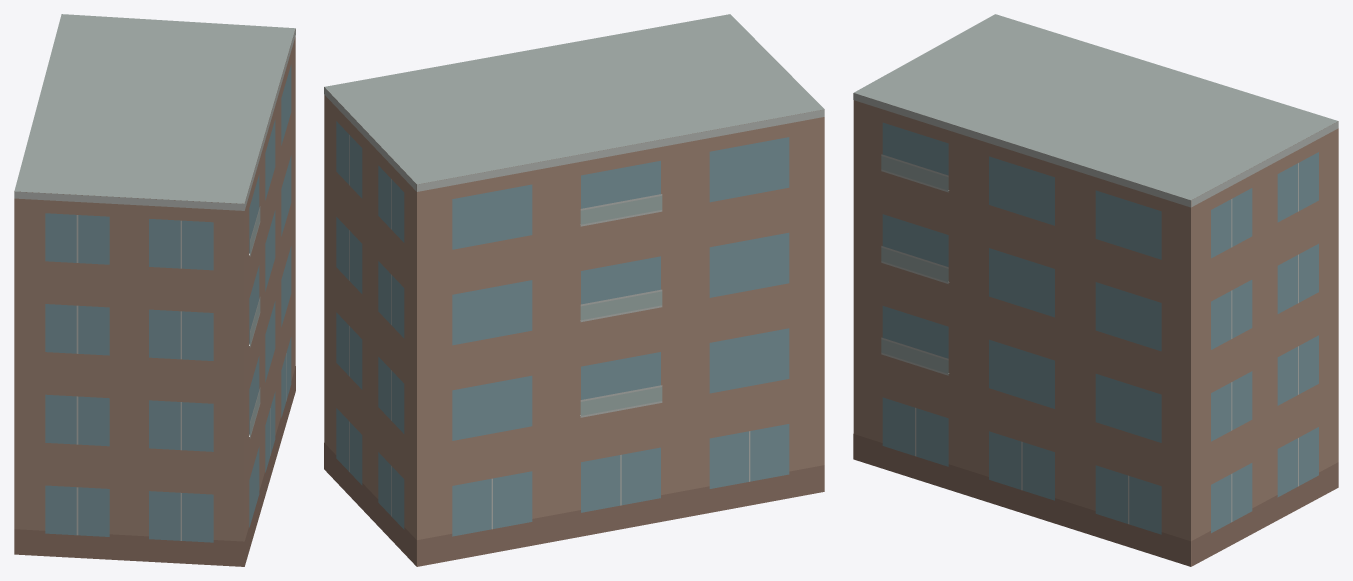
File: survey-upis-32853467.glb
3 renders of one model, left to right at view 1: azimuth 30°, elevation 25°; view 2: azimuth 150°, elevation 25°; view 3: azimuth 270°, elevation 25°, orthographic. The views are drawn at different scales.
Parts seen in each view (by area): view 1: survey-upis-32853467.tmp; view 2: survey-upis-32853467.tmp; view 3: survey-upis-32853467.tmp.
Part boxes in pixels (bbox=[...]): survey-upis-32853467.tmp: bbox=[14, 14, 295, 566]; survey-upis-32853467.tmp: bbox=[324, 14, 824, 566]; survey-upis-32853467.tmp: bbox=[853, 14, 1338, 566].
Bounding box in the file's own units: 13.53 × 12.4 × 14.88.
